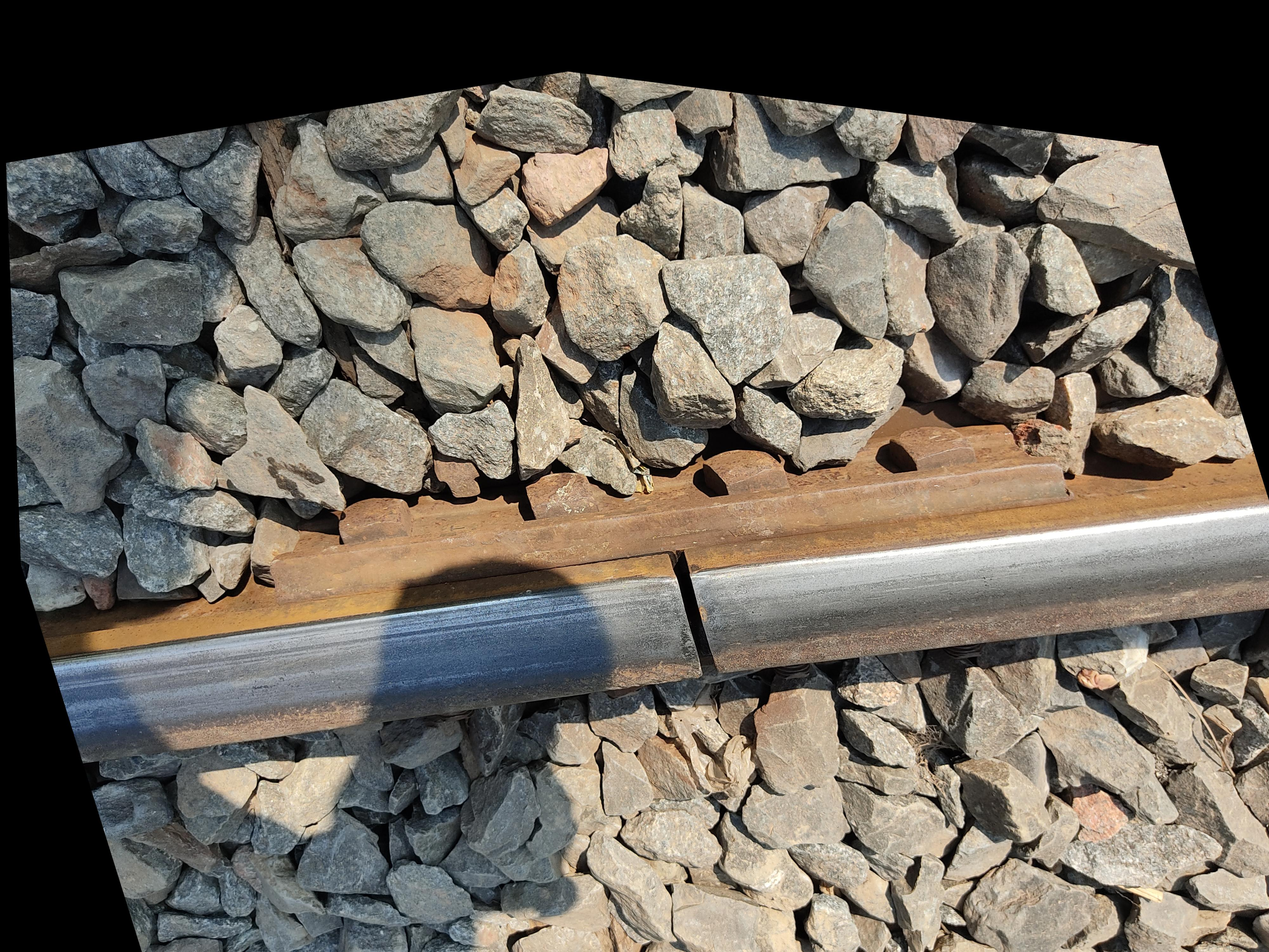person: (365, 770, 523, 936)
